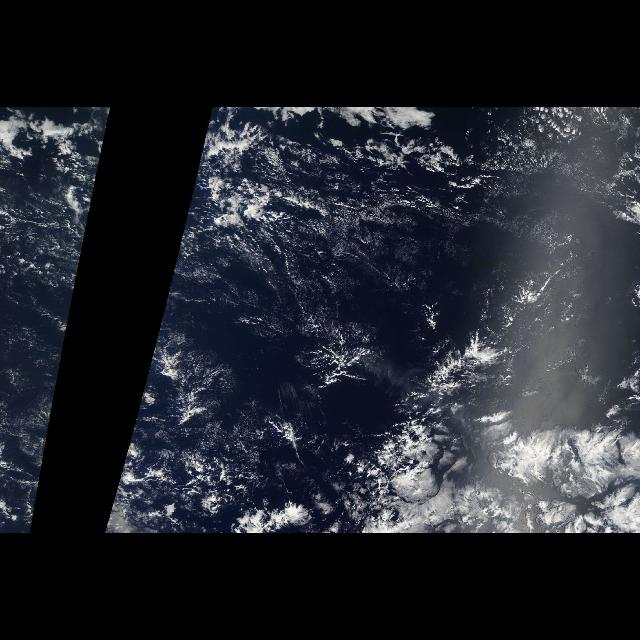Fish: (403, 334, 537, 404)
Gravel: (205, 141, 612, 271)
Sugar: (196, 208, 580, 350), (1, 204, 76, 486)
